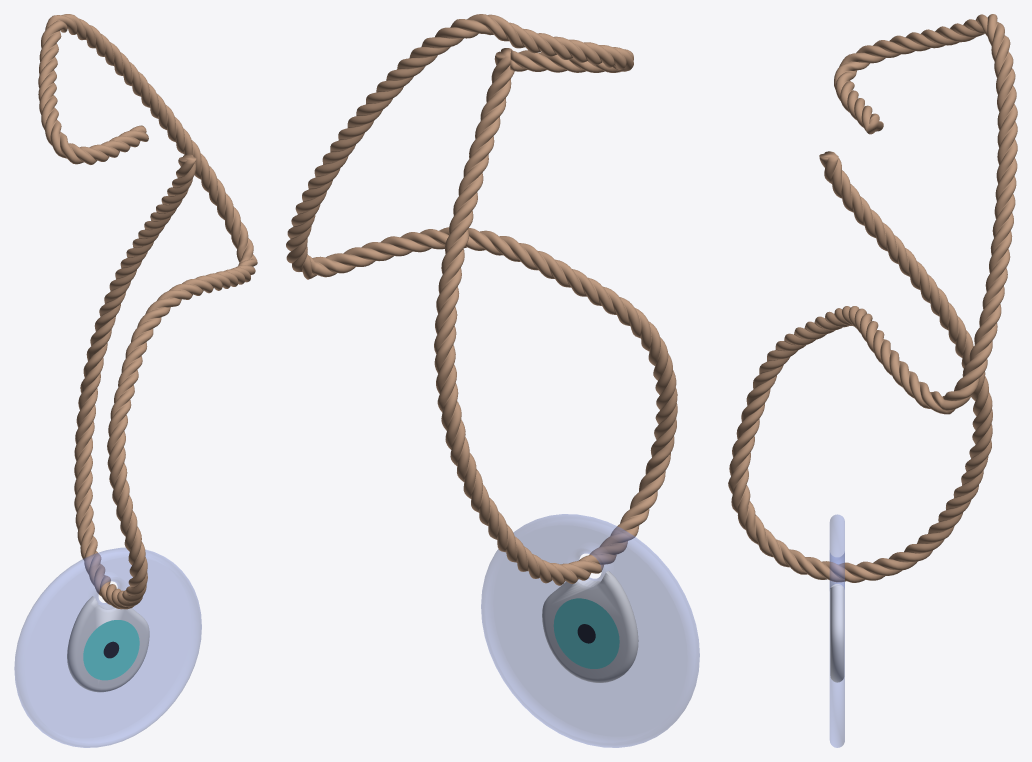
Rendered from oeilgrec3.glb.
3 renders of one model, left to right at view 1: azimuth 30°, elevation 25°; view 2: azimuth 150°, elevation 25°; view 3: azimuth 270°, elevation 25°, orthographic. The views are drawn at different scales.
Parts seen in each view (by area): view 1: verreBleu.001; view 2: verreBleu.001; view 3: verreBleu.001.
Boxes of the visible parts, left/top/right/bottom form: verreBleu.001: left=14, top=14, right=257, bottom=747; verreBleu.001: left=286, top=14, right=699, bottom=747; verreBleu.001: left=728, top=14, right=1017, bottom=747.
Bounding box in the file's own units: 0.4675 × 1.02 × 0.3661.
Materials: 5 (1 with a texture image).
